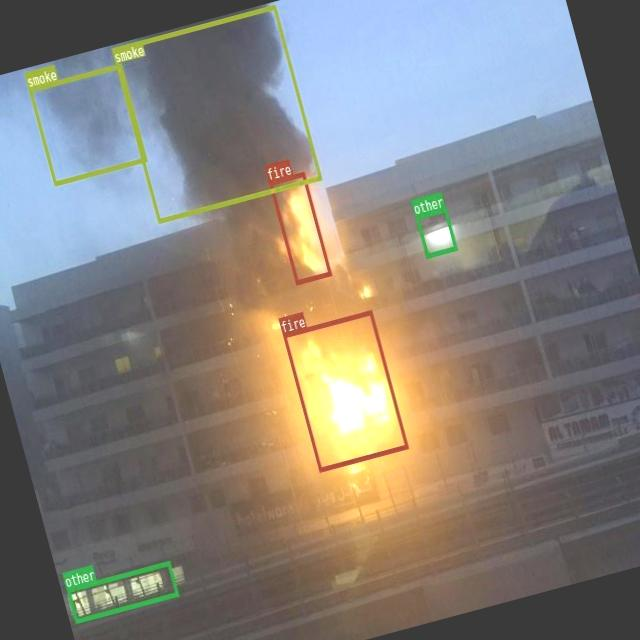fire: (282, 309, 408, 471), (268, 170, 331, 284)
smoke: (111, 3, 321, 223), (27, 62, 146, 184)
